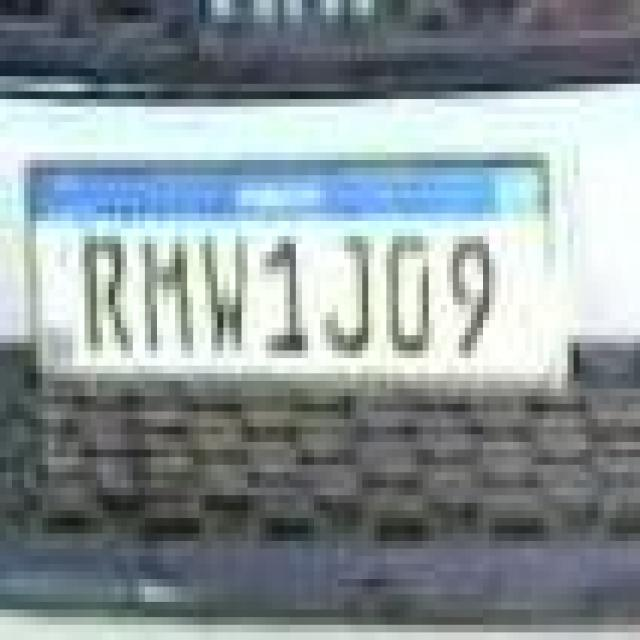0: (383, 226, 438, 364)
1: (260, 230, 310, 364)
9: (446, 226, 493, 362)
J: (322, 225, 378, 362)
M: (131, 215, 193, 361)
R: (80, 225, 134, 358)
W: (200, 224, 248, 357)
